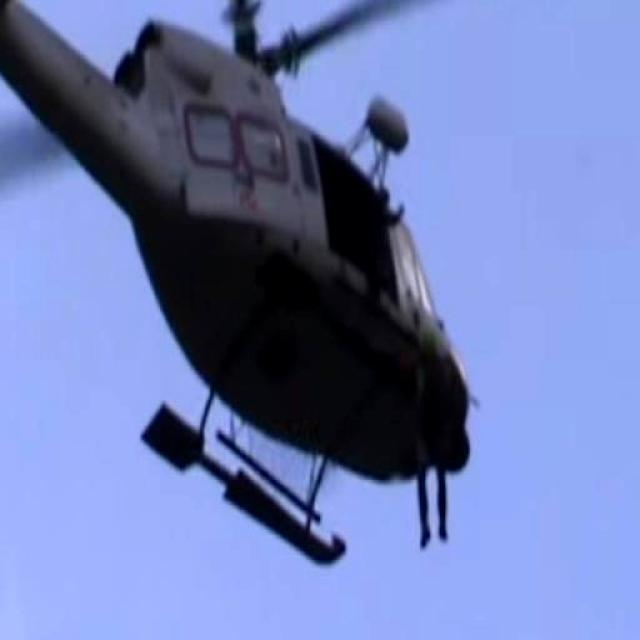drone: (0, 0, 481, 575)
